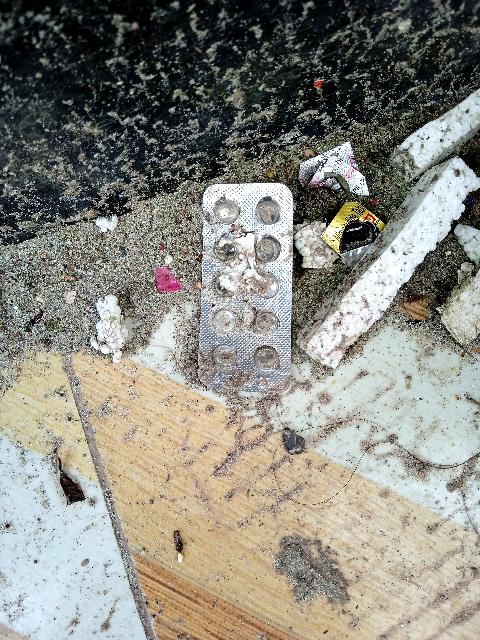medicine: (193, 175, 304, 393)
